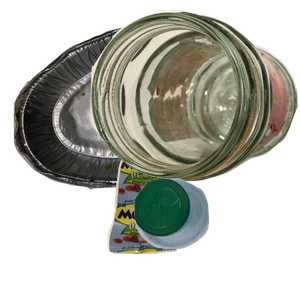glass: (90, 10, 300, 184)
metal: (11, 20, 251, 200)
plastic: (132, 176, 300, 300)
trash: (105, 152, 280, 300)
